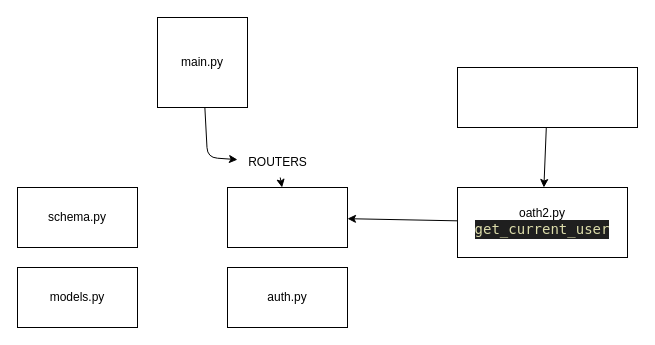
Image size: 655x345. Some labels were removed from this diagram. The centre of each missing label's shape, as x and y in pixels:
"database/config" goes at point (547, 97).
"user.py" goes at point (287, 217).
